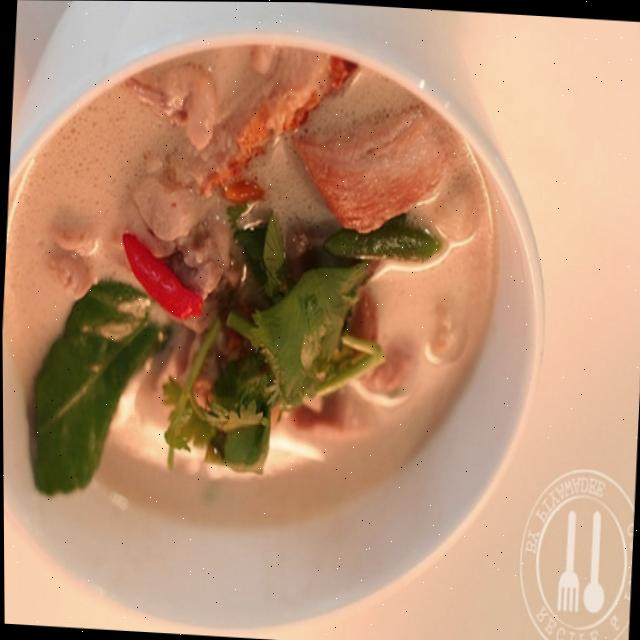汤锅炖物: (0, 0, 561, 628)
